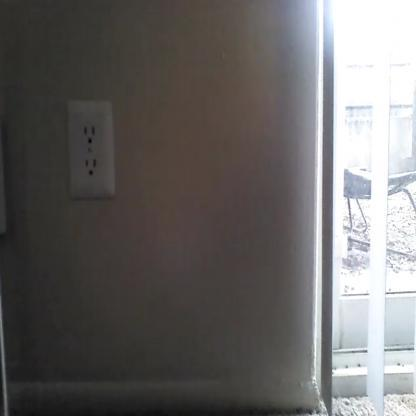OUTLET: (67, 99, 115, 199)
